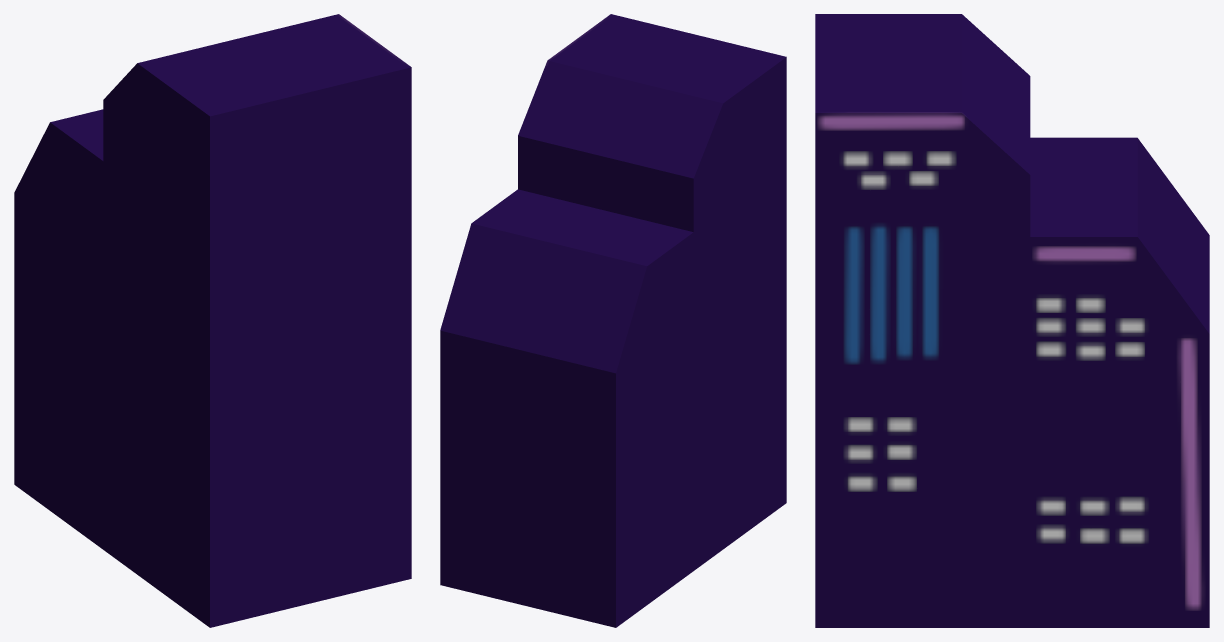
Rendered from Building5.fbx.
3 renders of one model, left to right at view 1: azimuth 30°, elevation 25°; view 2: azimuth 150°, elevation 25°; view 3: azimuth 270°, elevation 25°, orthographic. The views are drawn at different scales.
Parts seen in each view (by area): view 1: pCube5; view 2: pCube5; view 3: pCube5.
Part boxes in pixels (x1,y1,x2,y2): pCube5: [14, 14, 411, 627]; pCube5: [440, 14, 786, 627]; pCube5: [815, 14, 1209, 627].
Size of the model in its own units: 1 by 2.42 by 1.68.
